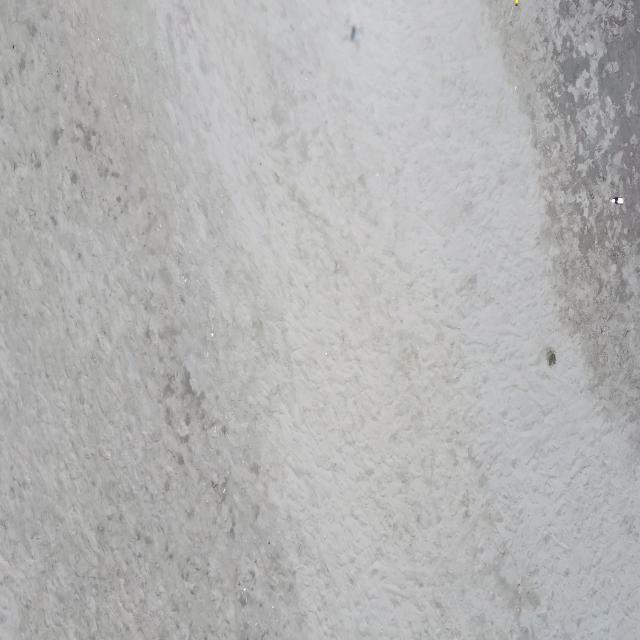glass: (609, 196, 625, 204), (514, 0, 519, 6)
